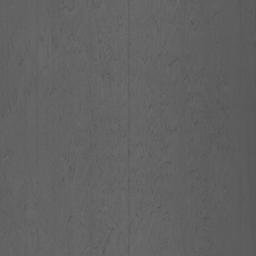Silk spot: (94, 190, 169, 256), (111, 120, 171, 177), (189, 168, 216, 232), (158, 47, 205, 81), (40, 29, 88, 53), (102, 64, 134, 98), (119, 167, 143, 192), (116, 0, 130, 32), (215, 126, 229, 150), (62, 166, 75, 182)
